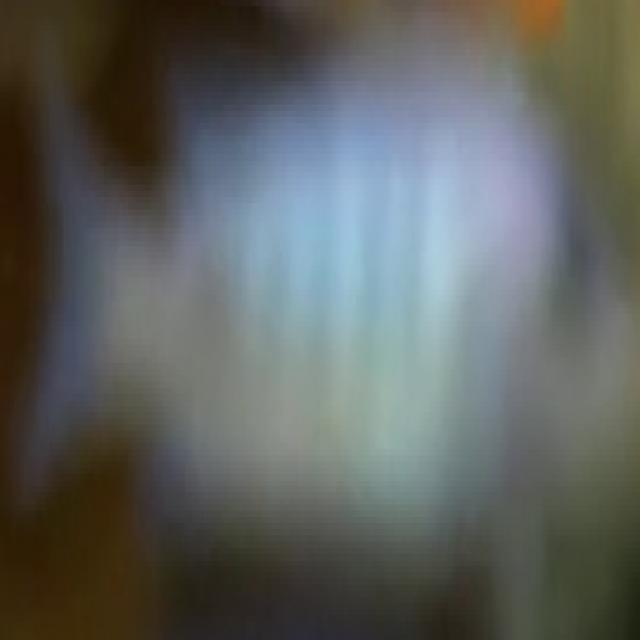fish: (2, 6, 640, 640)
